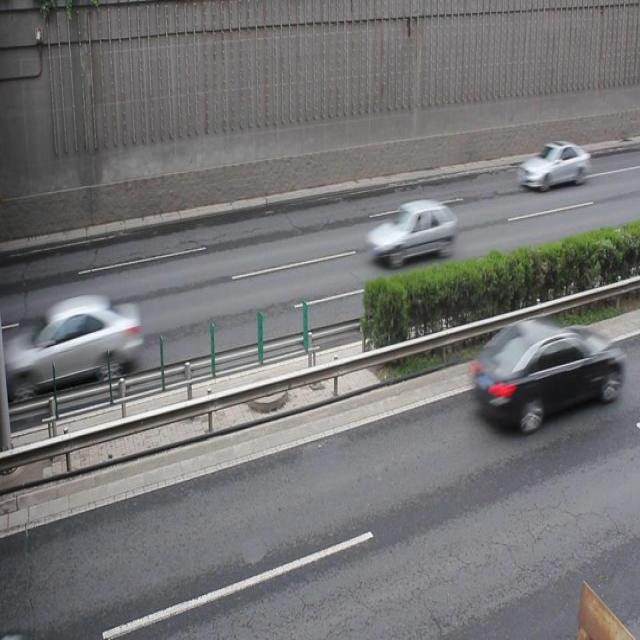car: (470, 314, 614, 429), (26, 290, 142, 391), (366, 197, 457, 265), (517, 137, 589, 190)
